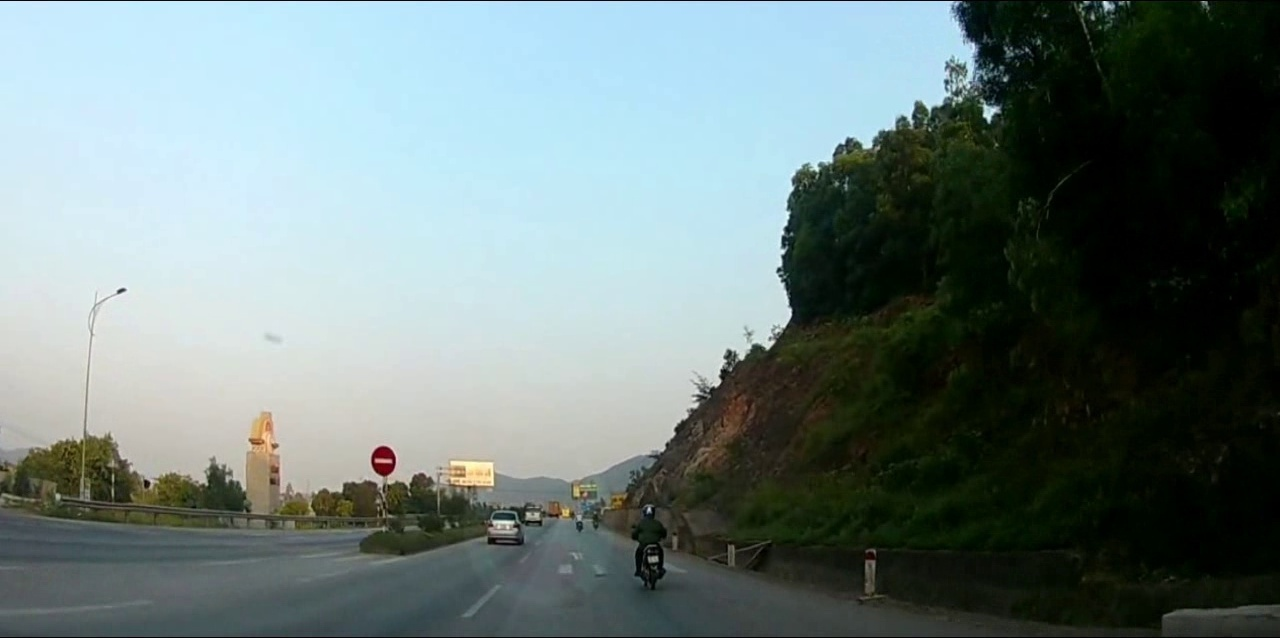Cam di nguoc chieu: (371, 445, 395, 480)
